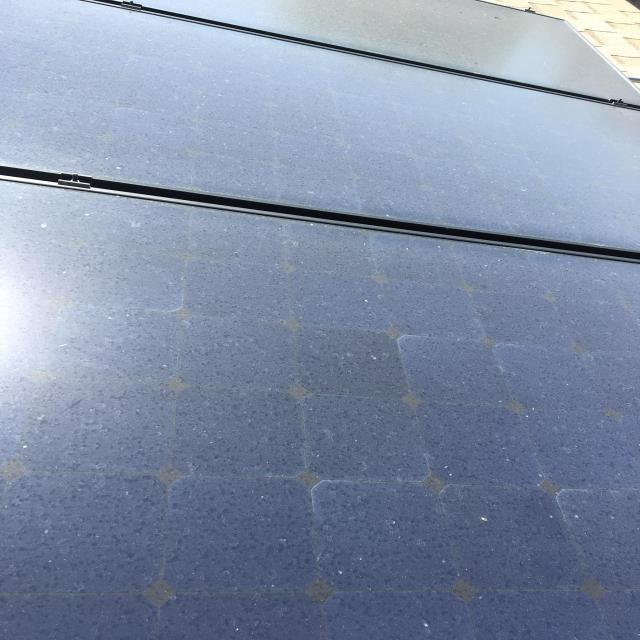dust-solar-panel: (2, 0, 638, 640)
